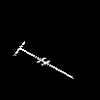treble_crochet: (16, 41, 71, 77)
